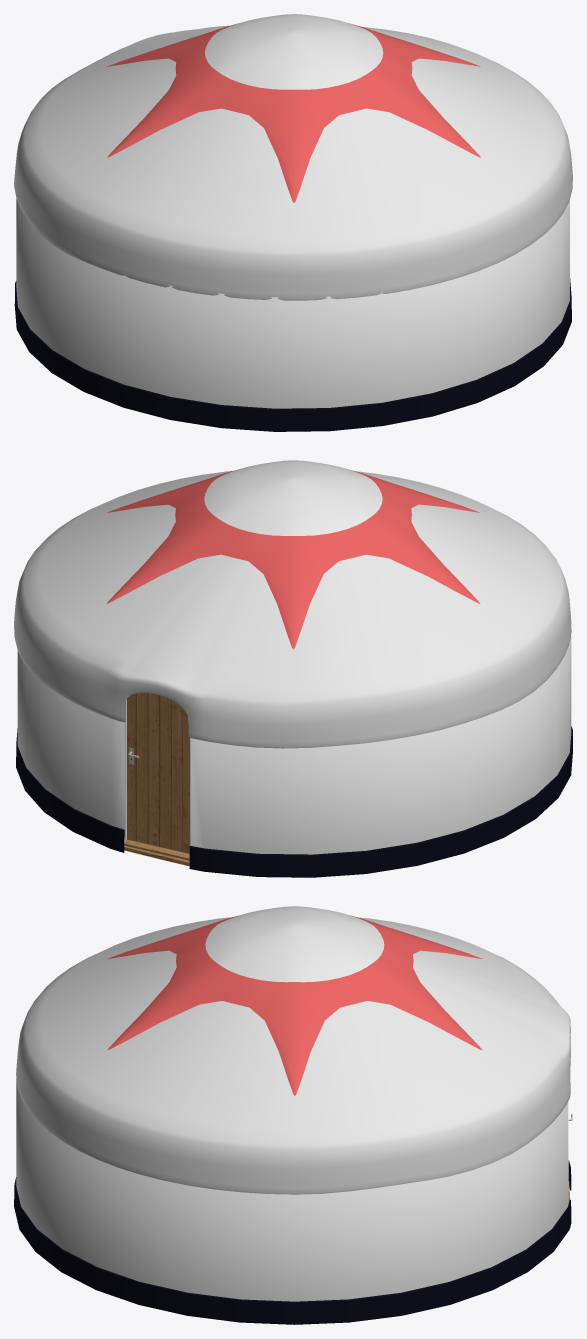
Rendered from Yurt 1.fbx.
3 views of the same model, one above another, from view 1: azimuth 30°, elevation 25°; view 2: azimuth 150°, elevation 25°; view 3: azimuth 270°, elevation 25° (orthographic).
Parts seen in each view (by area): view 1: Circle, Cylinder.007, Circle.001, Cylinder.008; view 2: Circle, Cylinder.007, Circle.001, Cylinder.008, Cube.098; view 3: Circle, Cylinder.007, Circle.001, Cylinder.008.
Part boxes in pixels (x1=…): Circle: x1=14, y1=25, x2=572, y2=300; Cylinder.007: x1=16, y1=199, x2=569, y2=408; Circle.001: x1=107, y1=14, x2=480, y2=202; Cylinder.008: x1=14, y1=278, x2=571, y2=431; Circle: x1=14, y1=471, x2=571, y2=748; Cylinder.007: x1=17, y1=619, x2=571, y2=854; Circle.001: x1=106, y1=460, x2=480, y2=649; Cylinder.008: x1=16, y1=726, x2=572, y2=877; Cube.098: x1=124, y1=693, x2=190, y2=860; Circle: x1=16, y1=917, x2=570, y2=1194; Cylinder.007: x1=16, y1=1079, x2=568, y2=1301; Circle.001: x1=107, y1=906, x2=482, y2=1095; Cylinder.008: x1=14, y1=1160, x2=571, y2=1324.
Size of the model in its own units: 542 by 301 by 539.
